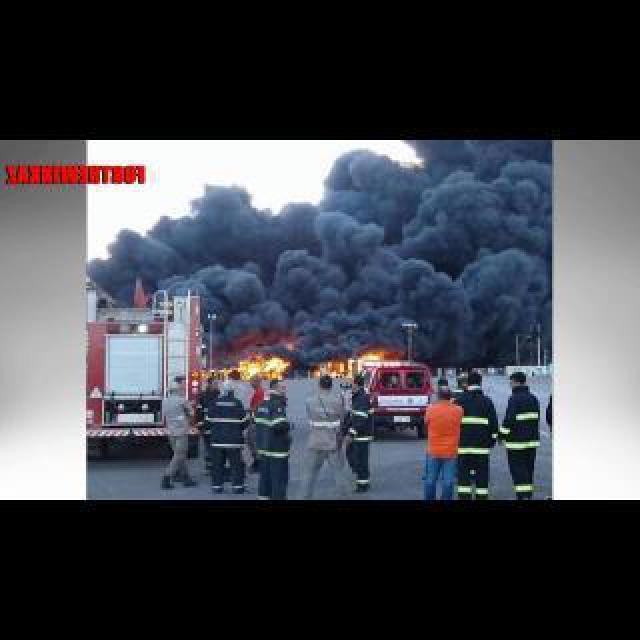fire: (220, 345, 296, 386), (319, 350, 395, 376)
smoke: (88, 143, 556, 352)
